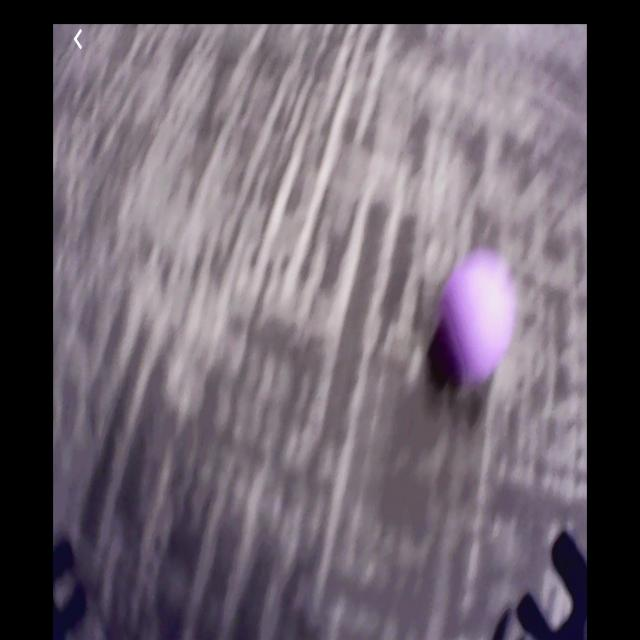ball: (440, 254, 520, 385)
